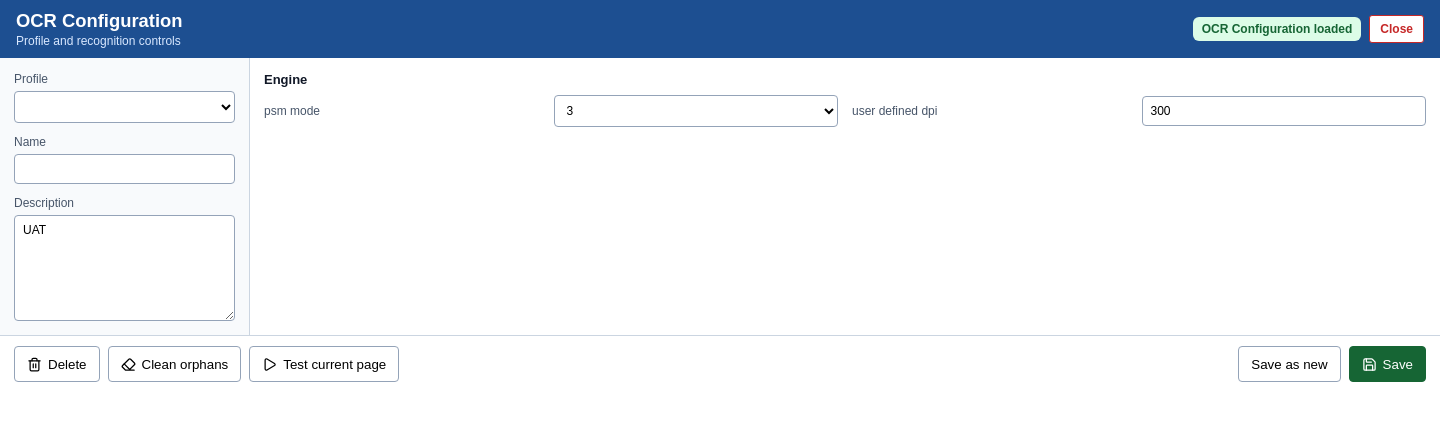
it: requires a profile name
Click the button "Save" at (1387,364), box 1349,346 -> 1426,382
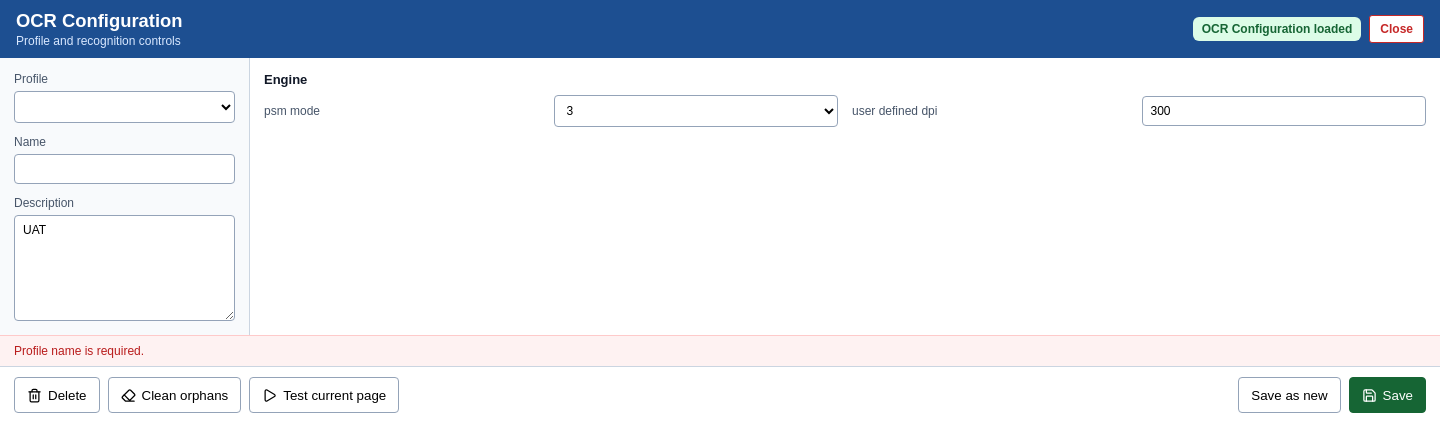
Check: the text "Profile name is required." is shown, box 0,335 -> 1439,366
